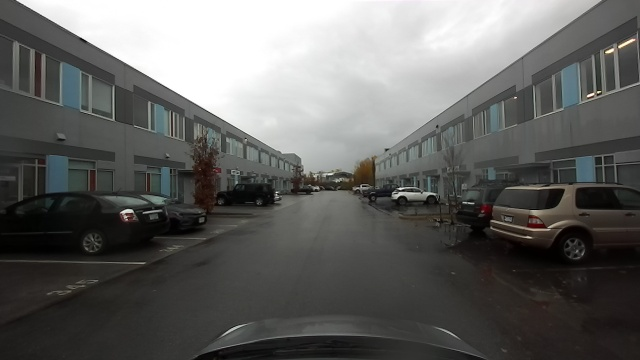car: (488, 182, 639, 264), (8, 190, 167, 252), (215, 181, 275, 211), (161, 196, 207, 232), (391, 184, 438, 207), (362, 183, 391, 203), (291, 185, 315, 195)
